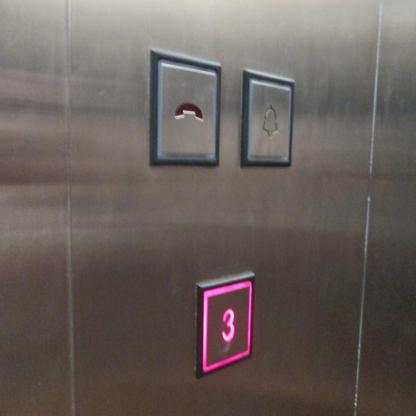3: (189, 269, 259, 379)
alarm: (236, 60, 297, 172)
call: (146, 40, 224, 172)
